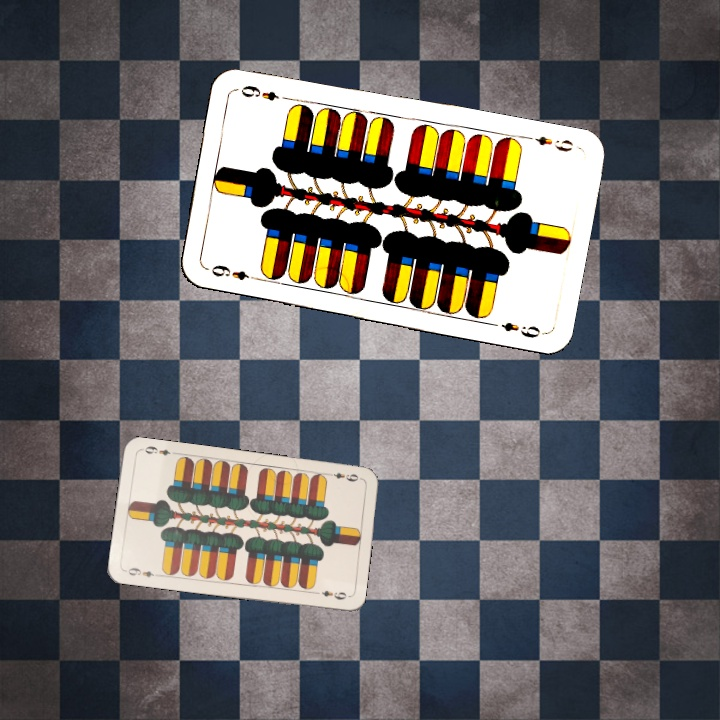E9: (521, 131, 576, 155), (207, 260, 261, 284), (122, 563, 162, 580), (324, 468, 364, 484)
